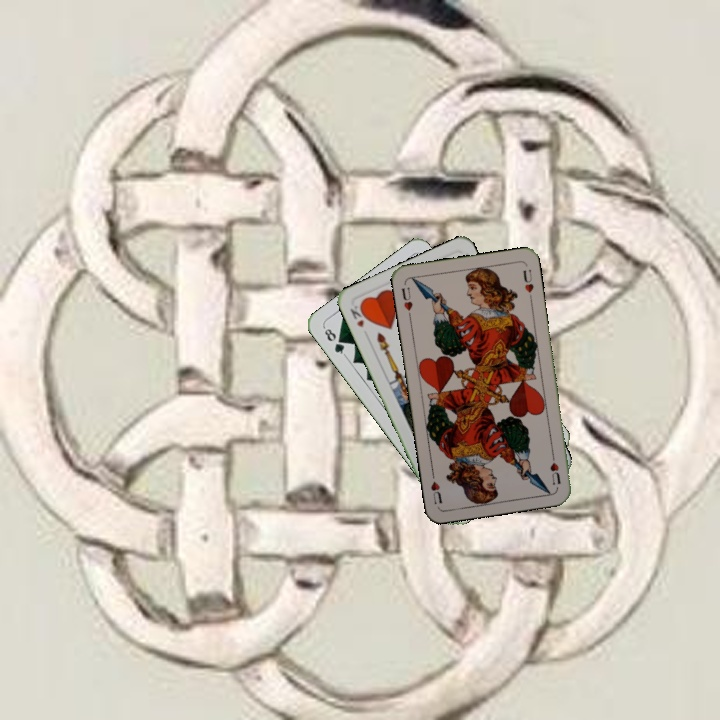G8: (320, 323, 348, 358)
HK: (346, 304, 366, 330)
HU: (397, 283, 415, 320), (546, 449, 563, 487)
